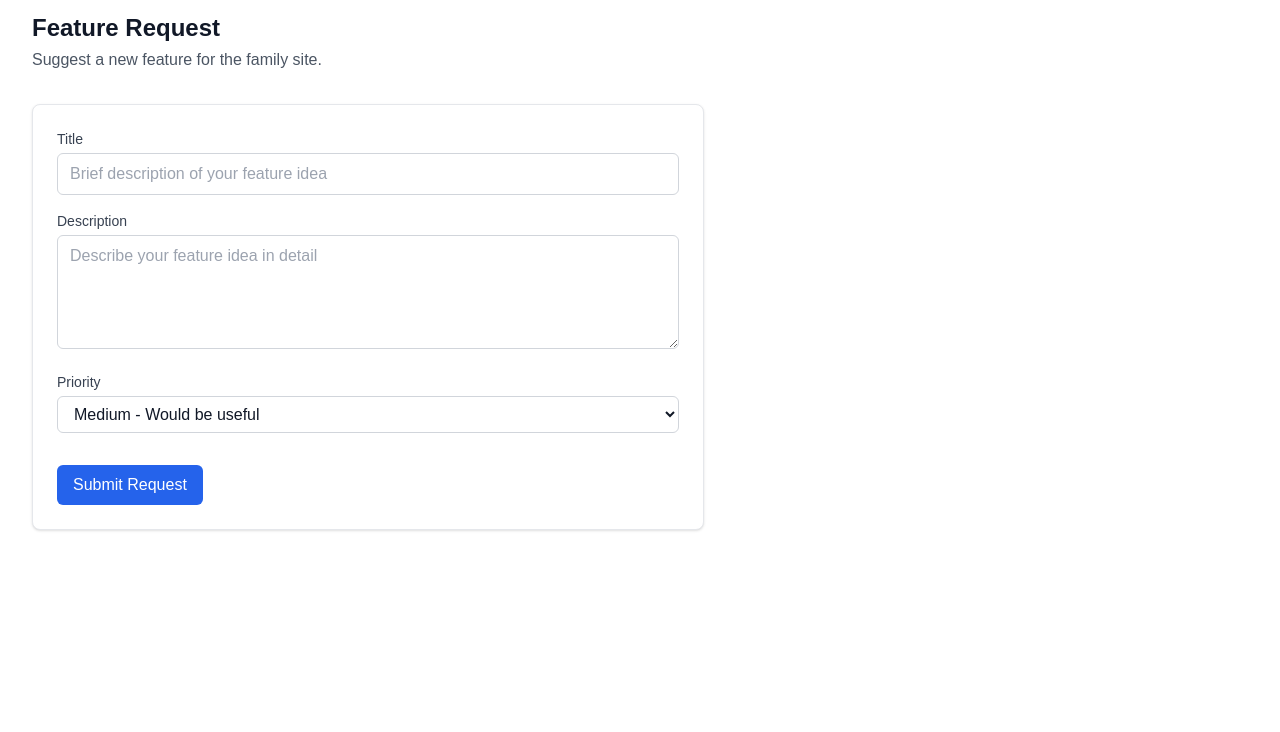
FeatureRequestPage › Form submission › displays success message after submission
Type "New Feature" into the field labelled "Title" at (368,174), box [57, 153, 679, 195]
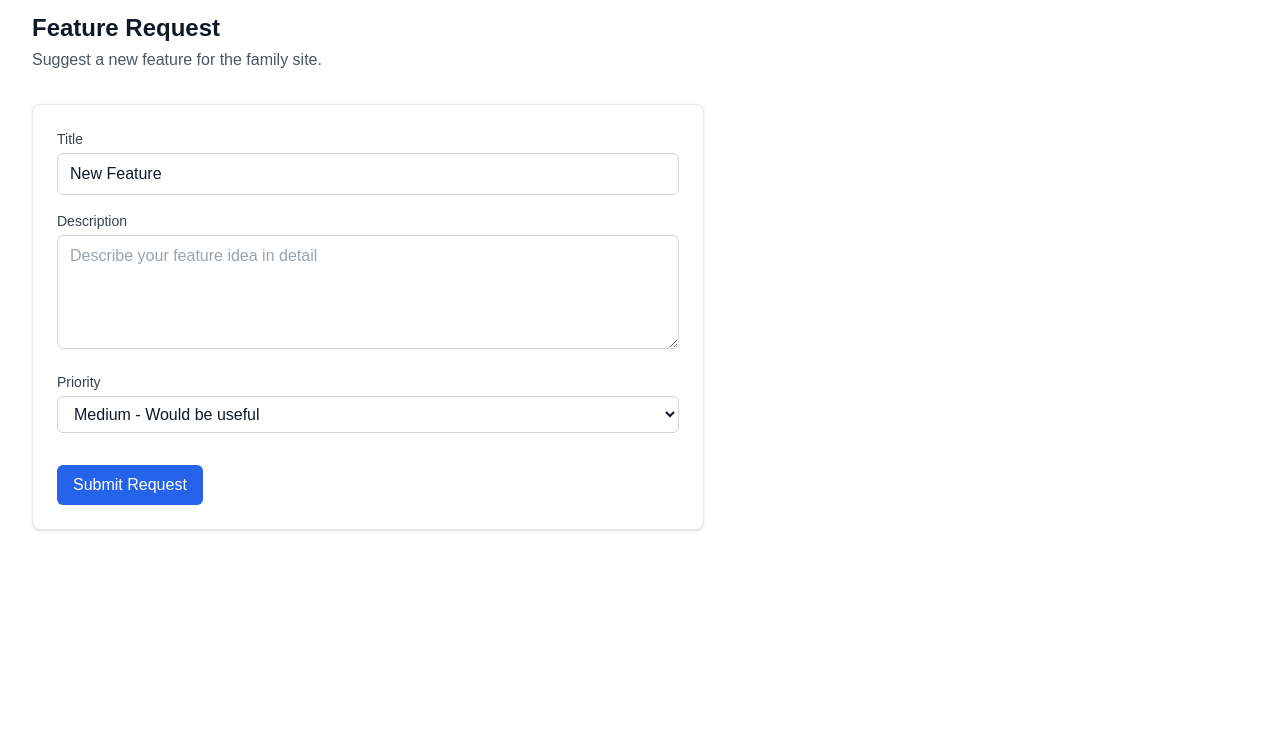
Type "A great new feature" into the text box labelled "Description" at (368,292), box [57, 235, 679, 349]
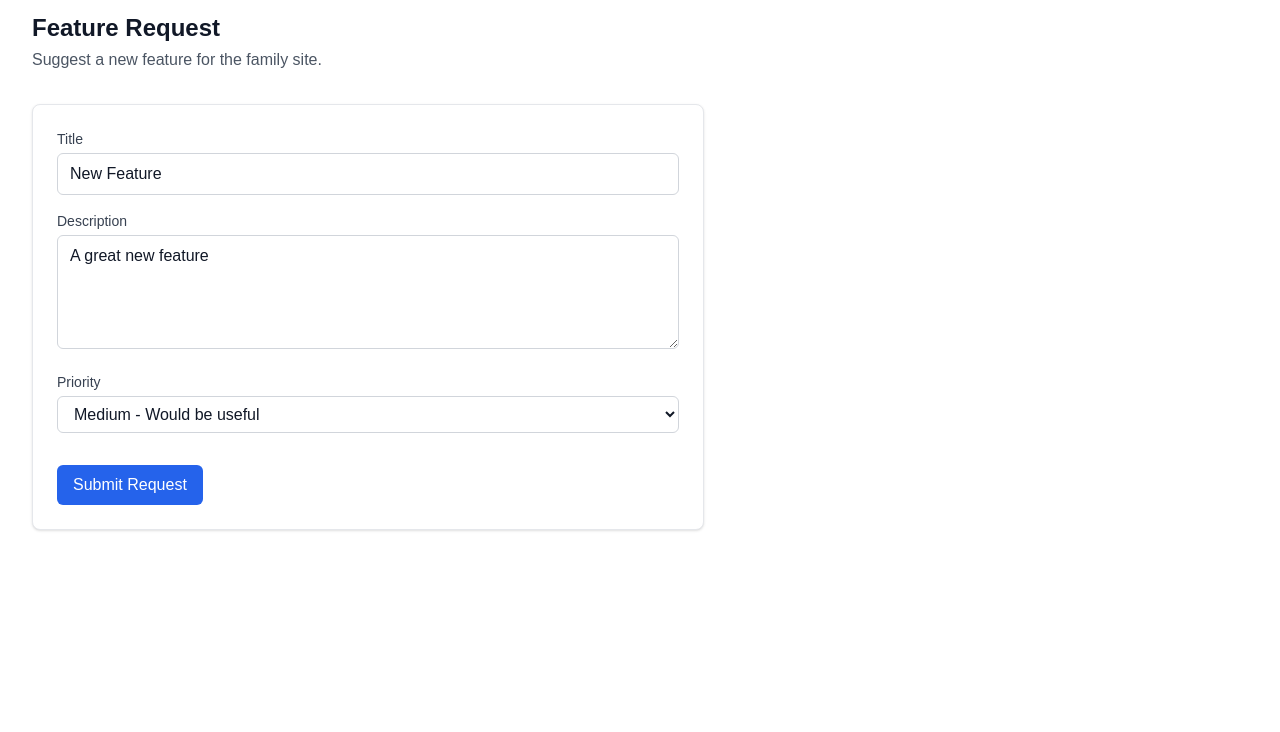
Click the button "Submit Request" at (130,485), box [57, 465, 203, 505]
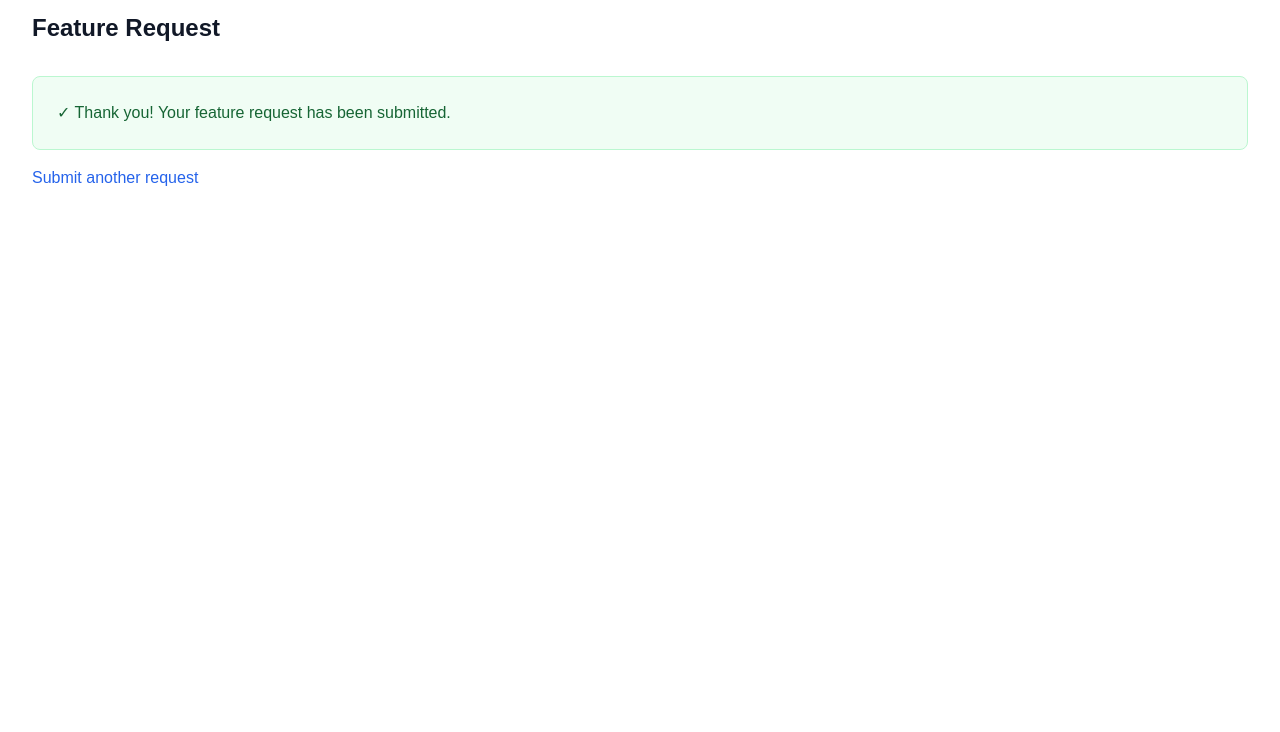
Expected: the text "✓ Thank you! Your feature request has been submitted." is shown, [57, 104, 451, 121]
